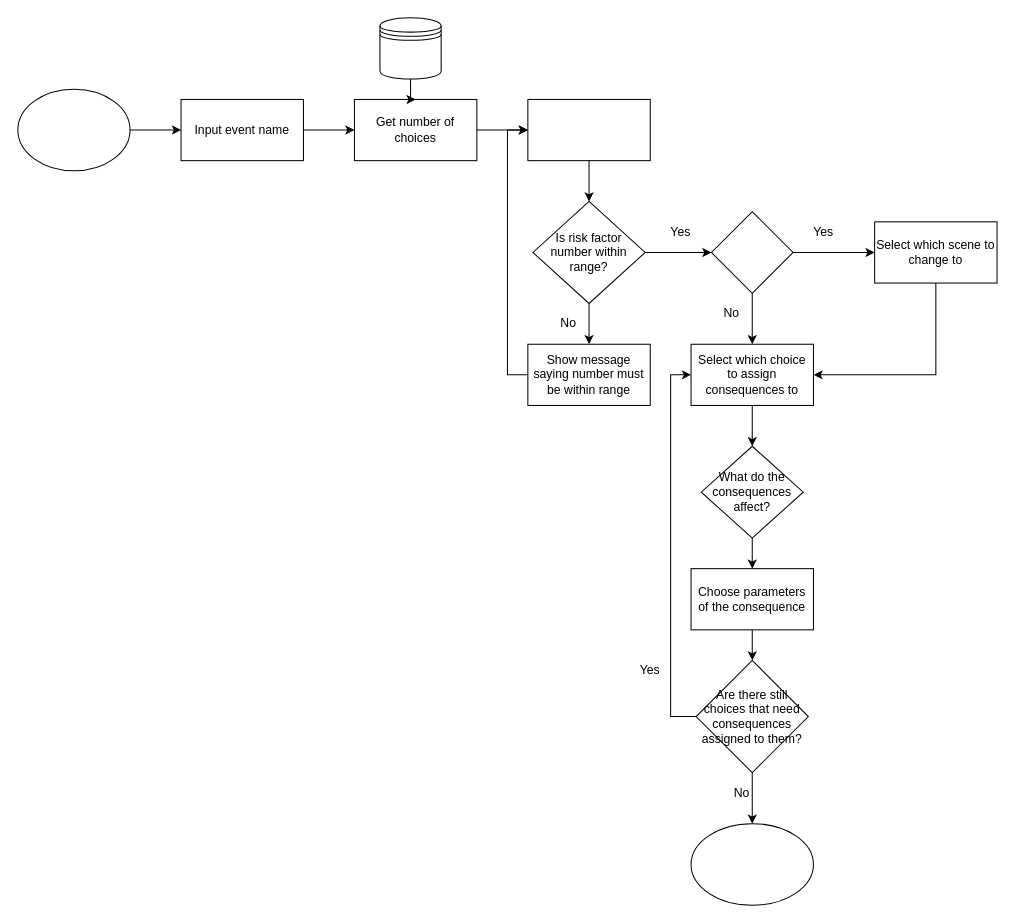
The diagram is 1015 pixels wide and 923 high, and some of its shapes have lost their labels. Here are the shapes that lost their labels. From the top down, the centre of each, then its label:
At (x=73, y=129): "Start".
At (x=588, y=129): "Input risk factor number".
At (x=751, y=252): "Does scene change?".
At (x=751, y=864): "Finish".
